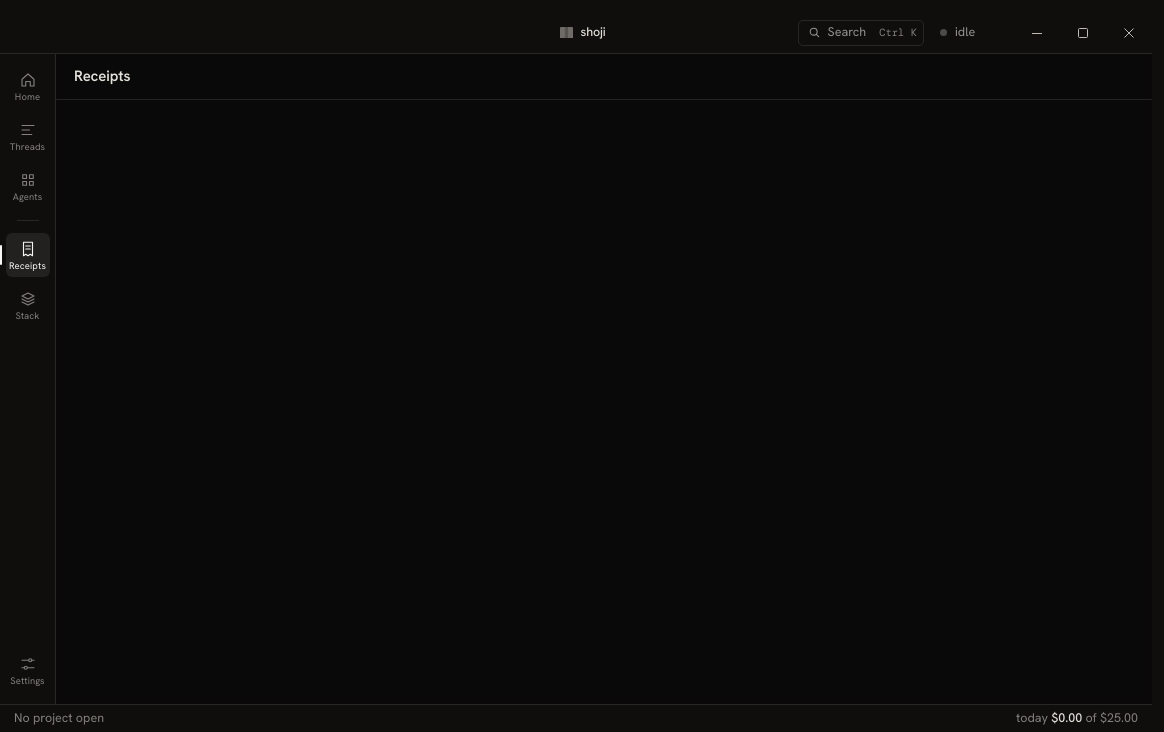
the Receipts view › exports the month as CSV
What coordinates should you click on to do the following:
click the button "Receipts"
I would click on:
 (28, 255)
Its box is [6,233,50,277].
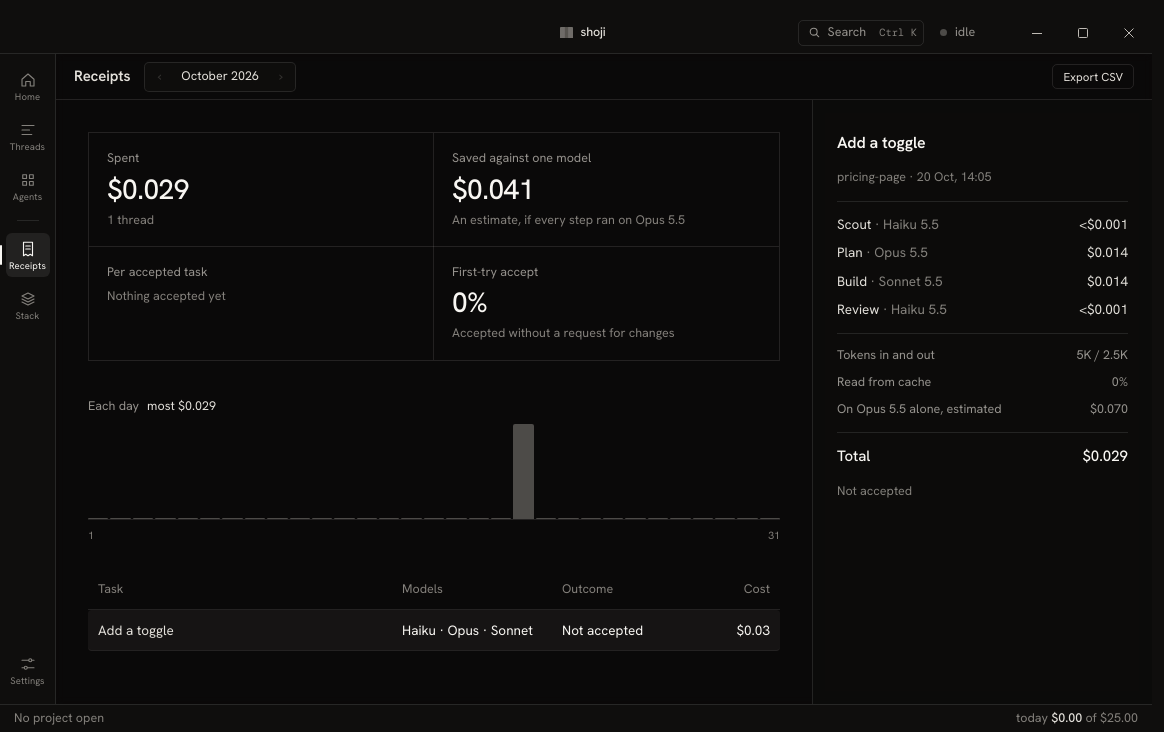
What coordinates should you click on to do the following:
click the button "Export CSV"
I would click on:
 (1093, 77)
Its box is [1052,64,1134,89].
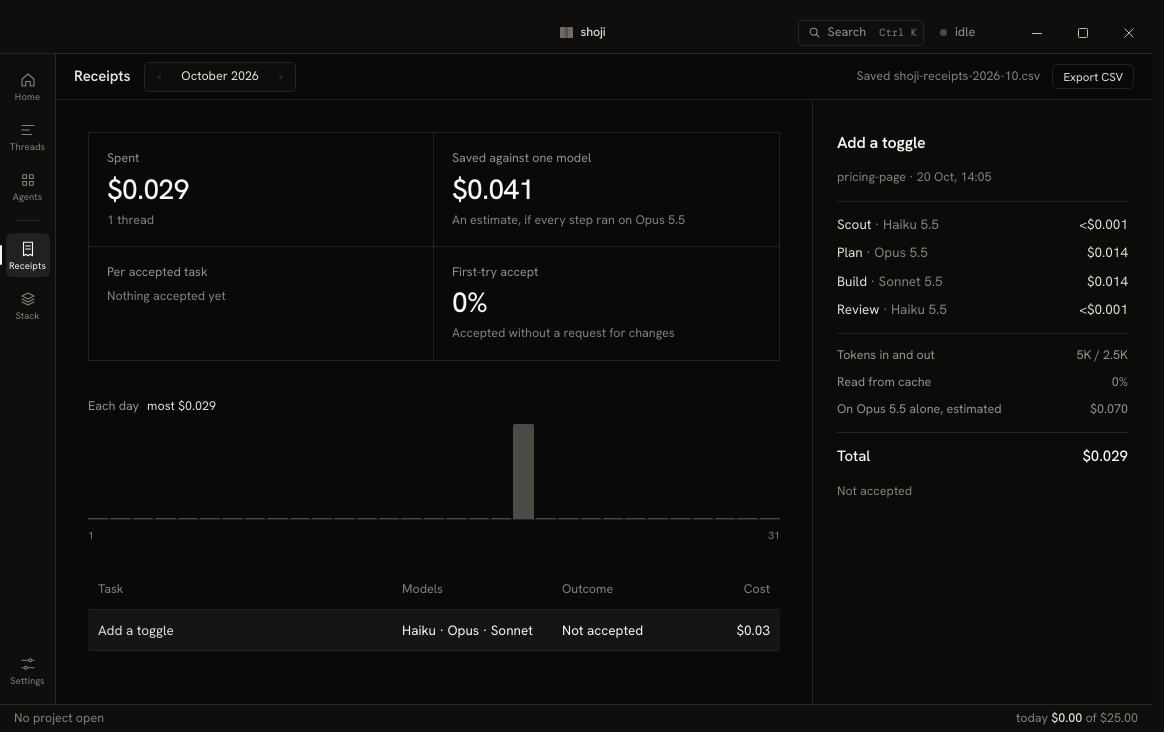
expect the text "Saved shoji-receipts-2026-10.csv" is shown: met, box [856,67,1040,86]
